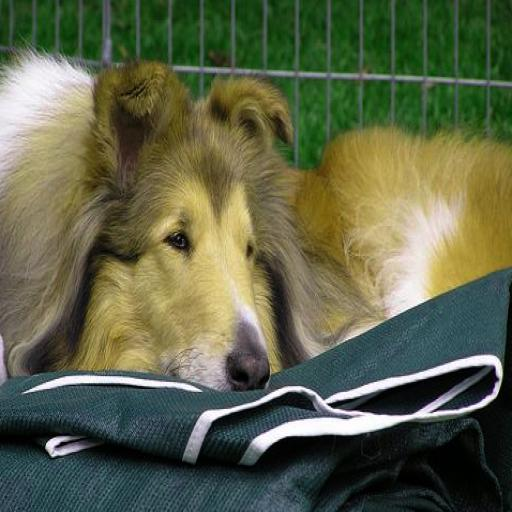dog_face: (81, 70, 291, 401)
